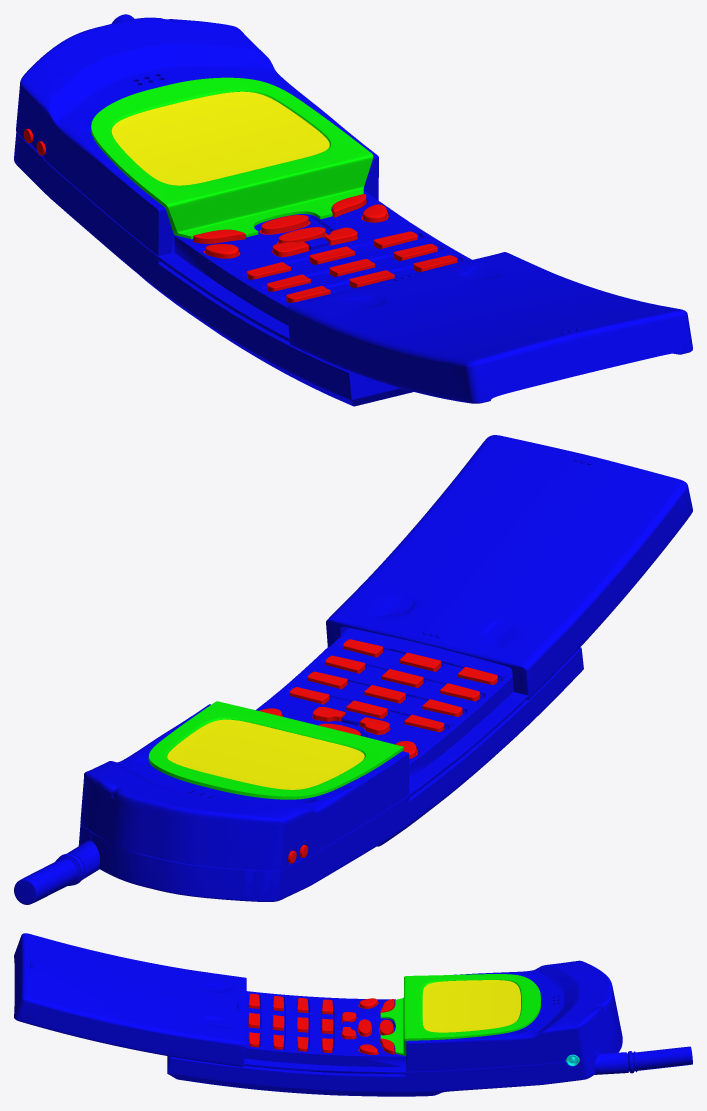
File: matrixPhone 1.fbx
The picture shows the model from 3 angles, top to bottom: view 1: azimuth 30°, elevation 25°; view 2: azimuth 150°, elevation 25°; view 3: azimuth 270°, elevation 25°; orthographic projection. The views are drawn at different scales.
Parts seen in each view (by area): view 1: Main, Slider; view 2: Main, Slider; view 3: Main, Slider.
Boxes of the visible parts, x1,y1,x2,y2 form: Main: (14,14,471,406); Slider: (287,252,692,403); Main: (14,627,583,904); Slider: (326,435,692,699); Main: (167,960,692,1096); Slider: (14,933,246,1066).
Bounding box in the file's own units: 457 × 327 × 1936.
